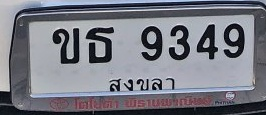txt02: (51, 26, 81, 66)
txt19: (85, 24, 115, 66)
